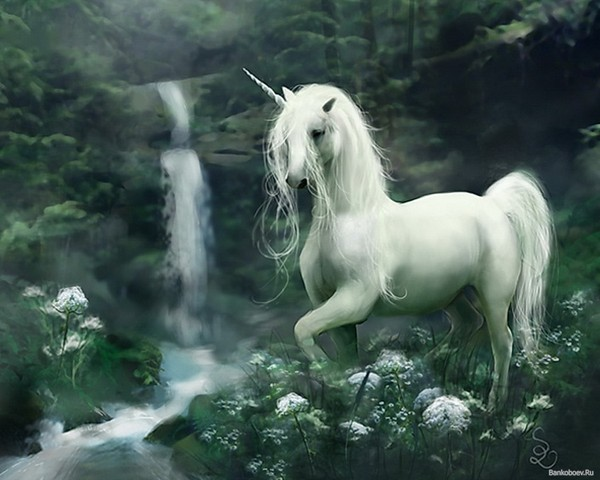background: (237, 62, 559, 430)
